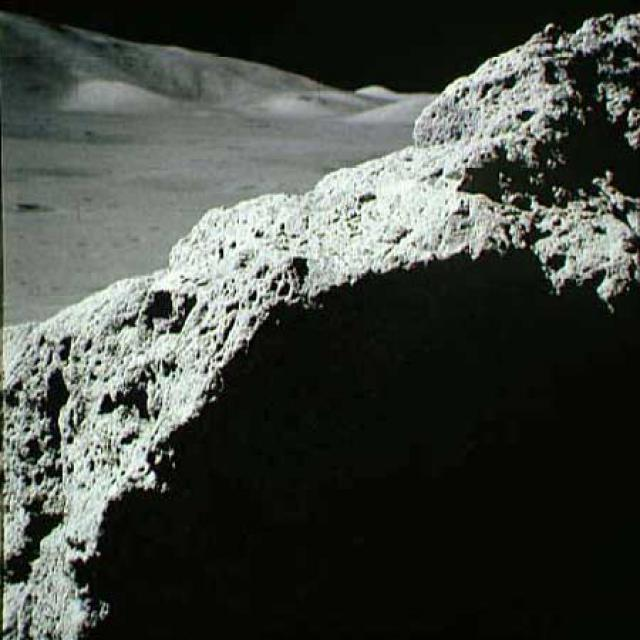crater: (7, 111, 172, 158), (7, 190, 60, 226)
rock: (1, 14, 638, 639)
